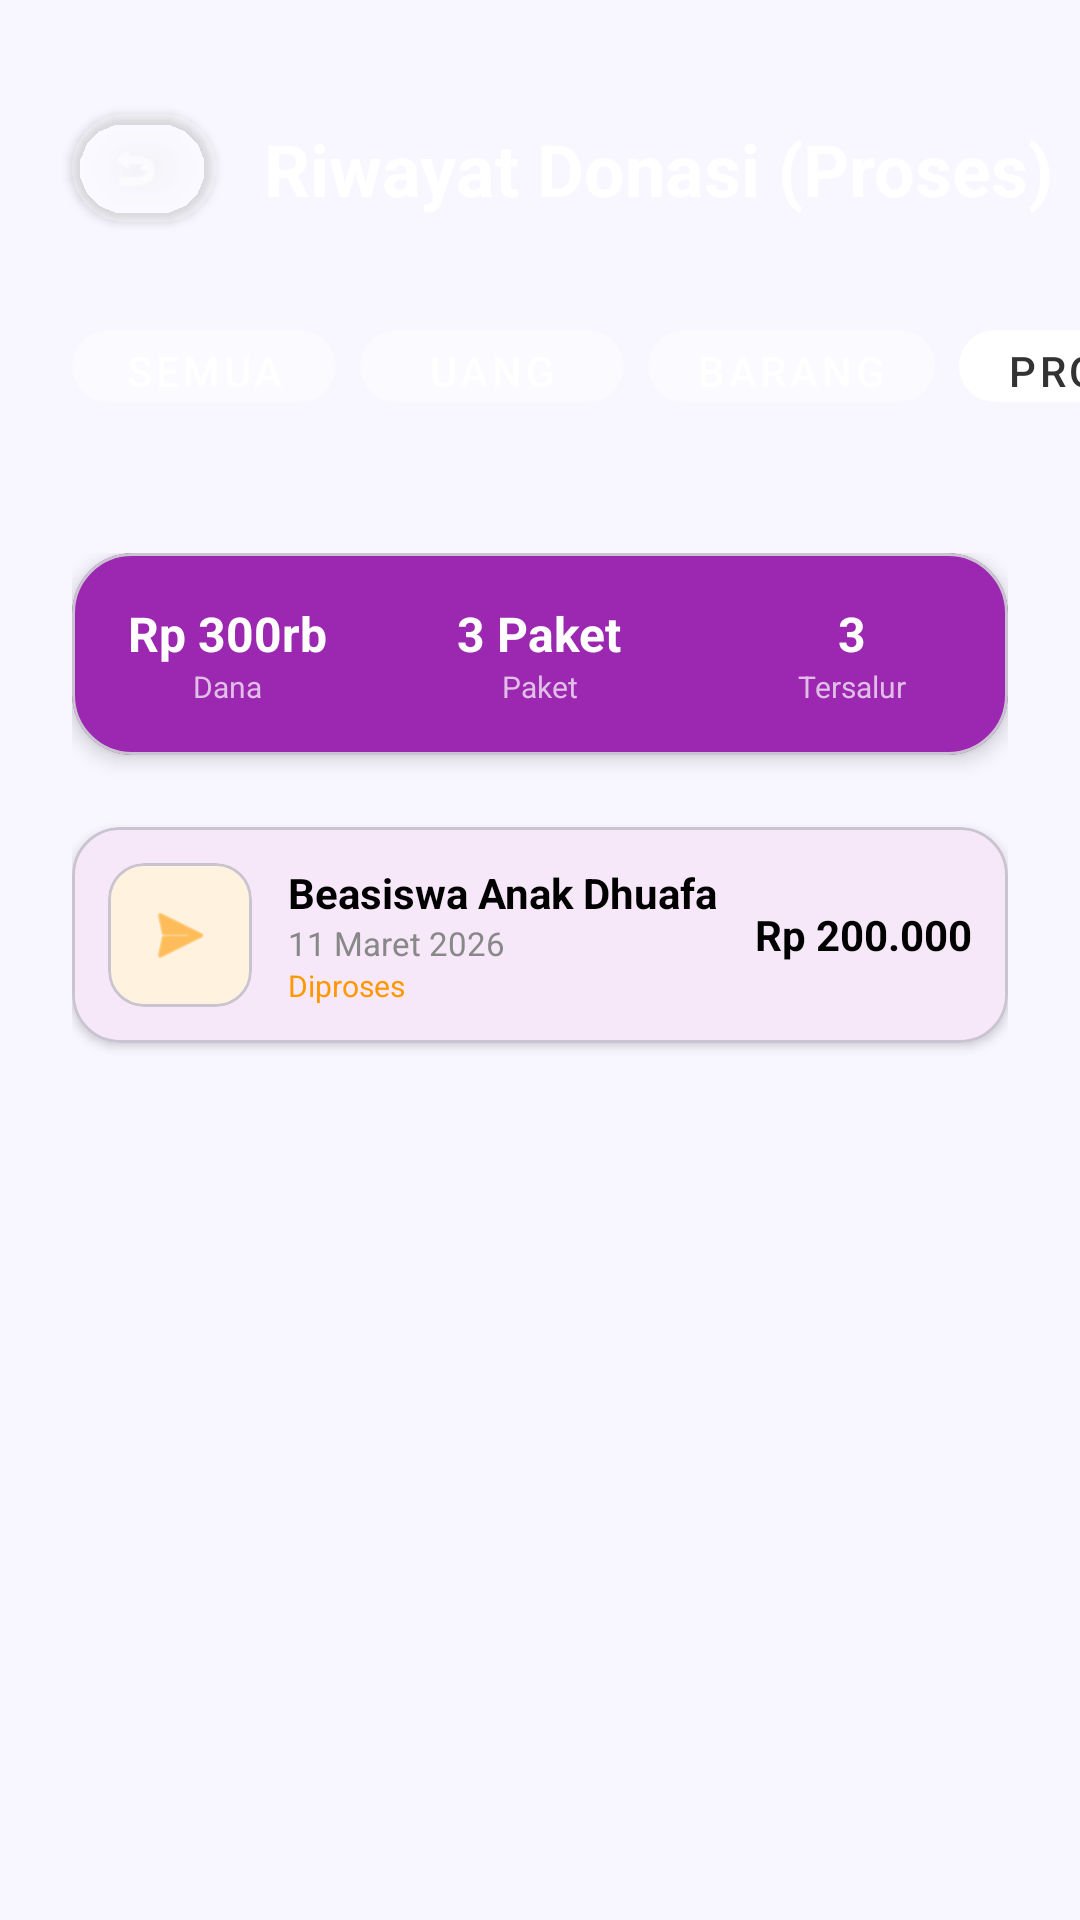

Screen size 1080 × 1920. Icon name, then its box in pixels as (x1, y1, x2, y2):
revert: (72, 120, 209, 218)
send: (158, 913, 204, 958)
